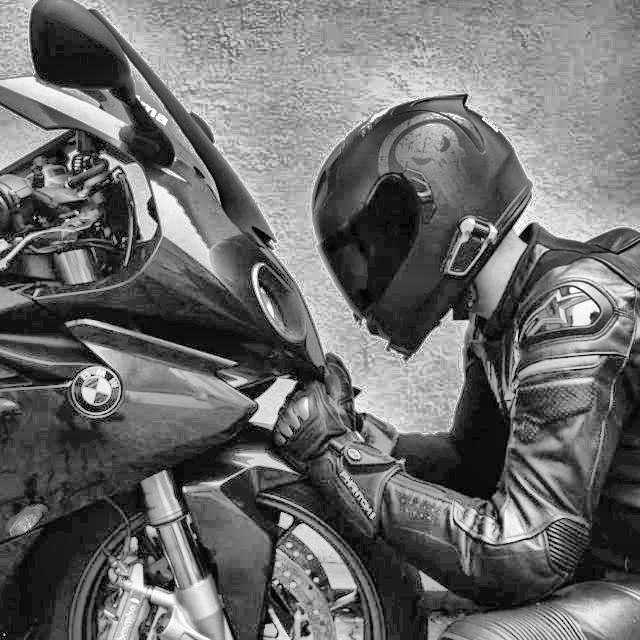Helmet: (304, 86, 540, 370)
